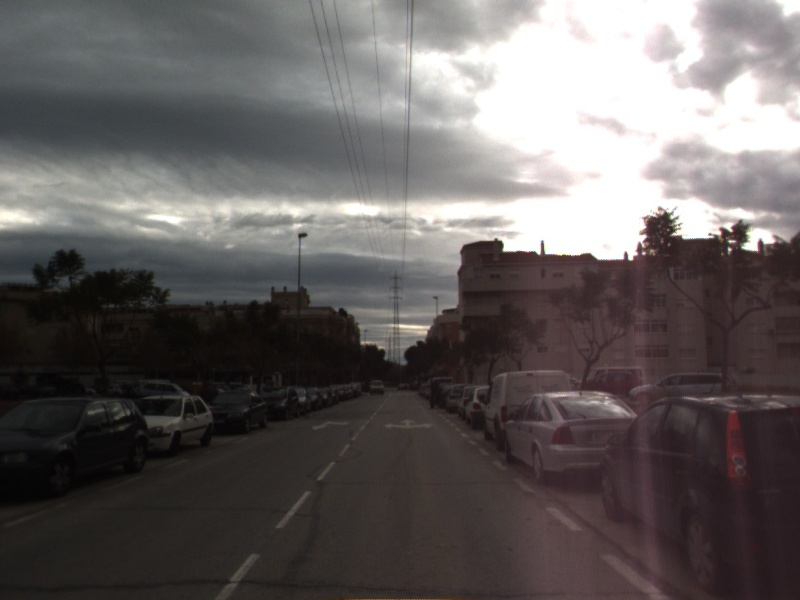STRAIGHT_LEFT_RIGHT: (381, 417, 435, 431)
